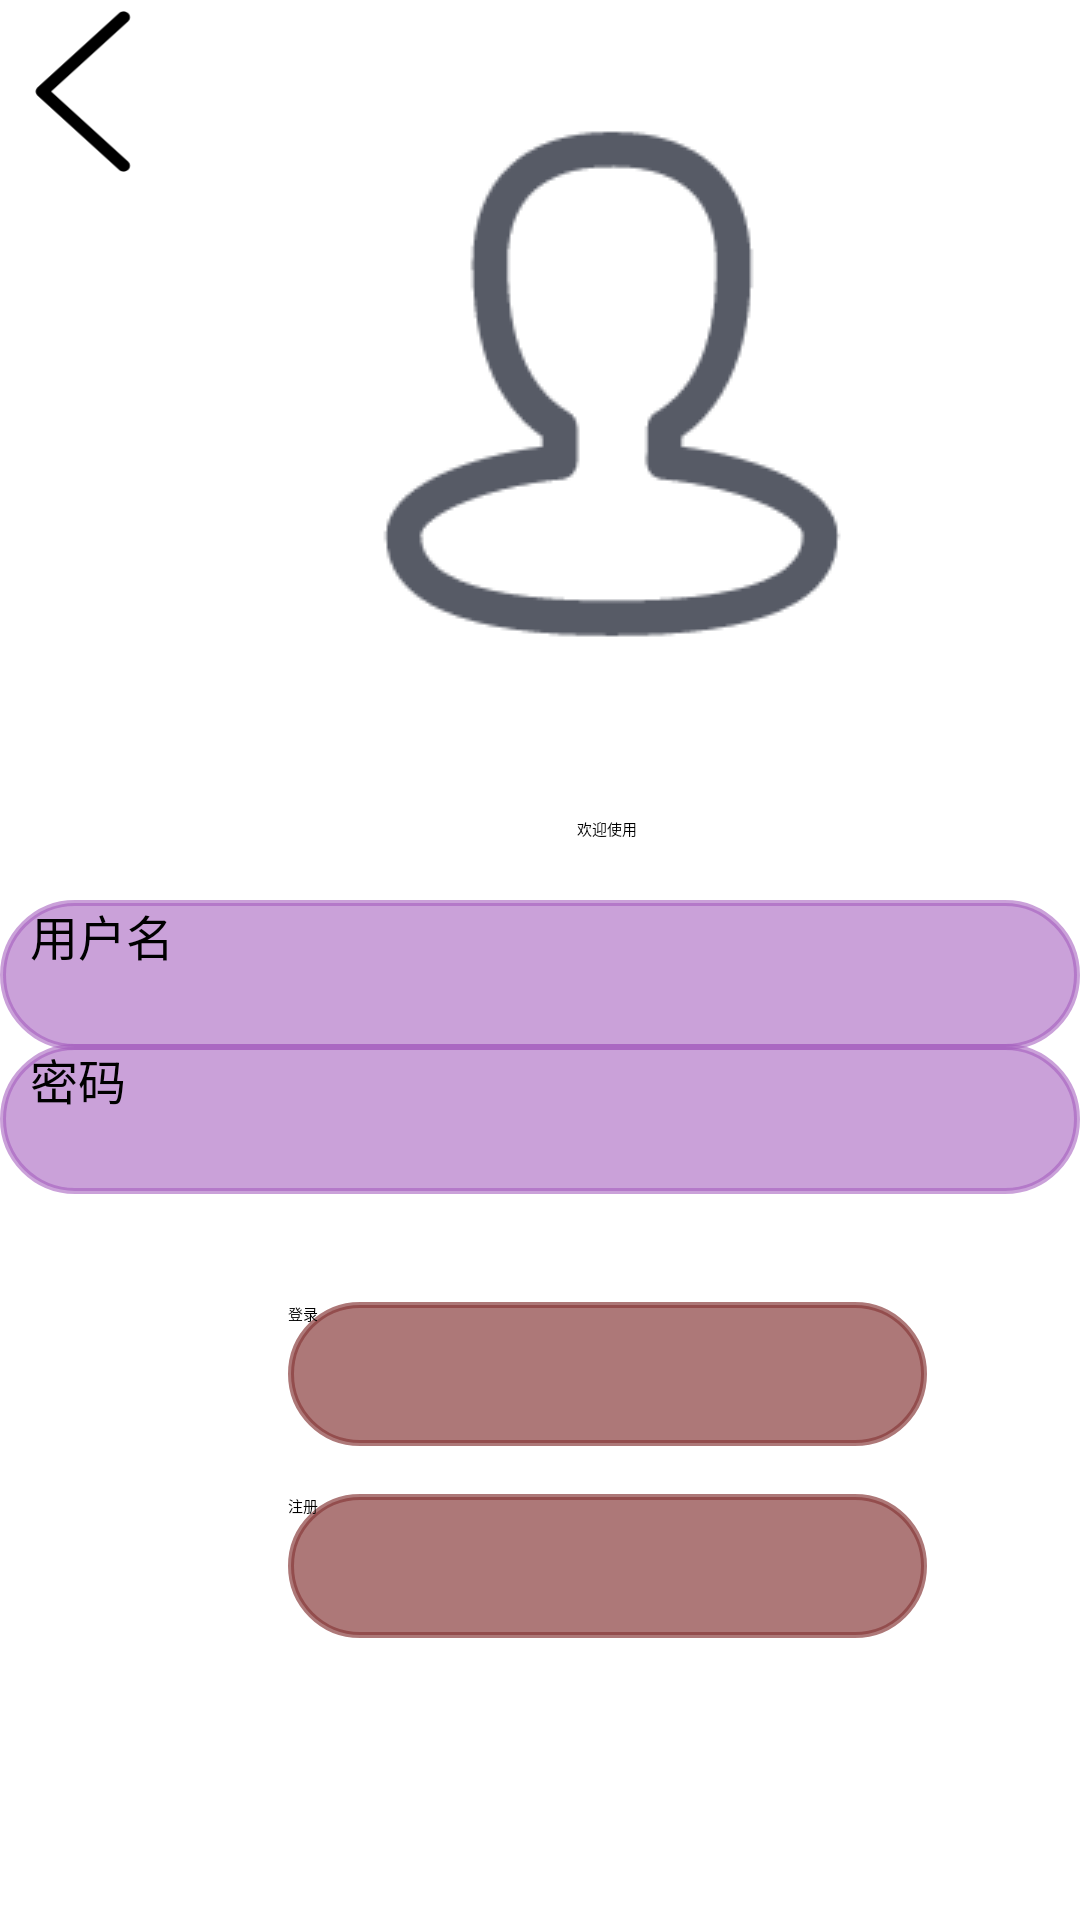

Locate icon controls on the screen. Image size 1080w x 1920h, boxes as (x1, y1, x2, y2).
jiantou: (35, 11, 131, 172)
